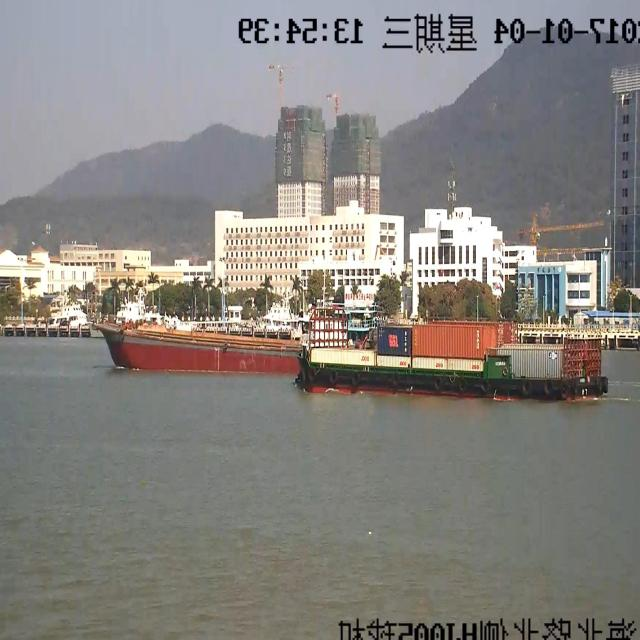cargoship: (294, 310, 602, 411), (102, 296, 294, 366)
